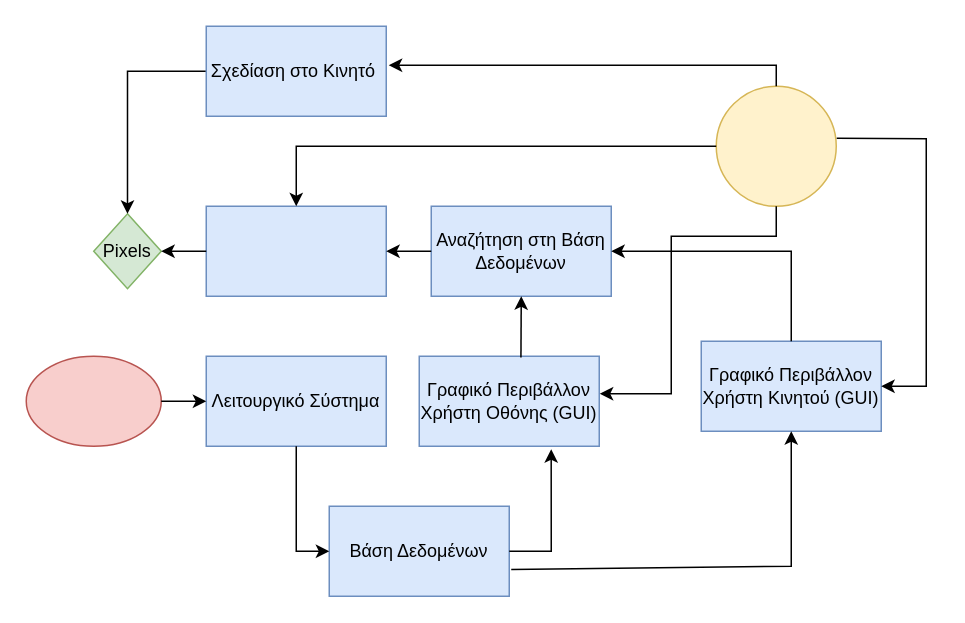
The diagram is 965 pixels wide and 623 high, and some of its shapes have lost their labels. The shapes that lost their labels are listed below. From the top down, each one's centre as x and y in pixels, then its label:
At point 775,145: "Χρονόμετρο".
At point 295,250: "Σχεδίαση στην Οθόνη".
At point 93,400: "Θέση".
